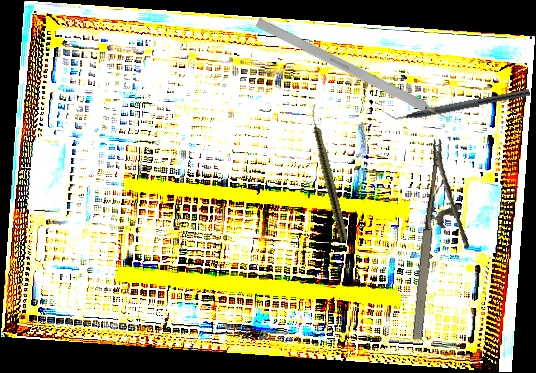Chopper: (382, 78, 531, 127)
Handpiece: (305, 103, 351, 242)
Hook Surgical: (255, 17, 466, 132)
Needle Holder: (406, 138, 483, 345)
